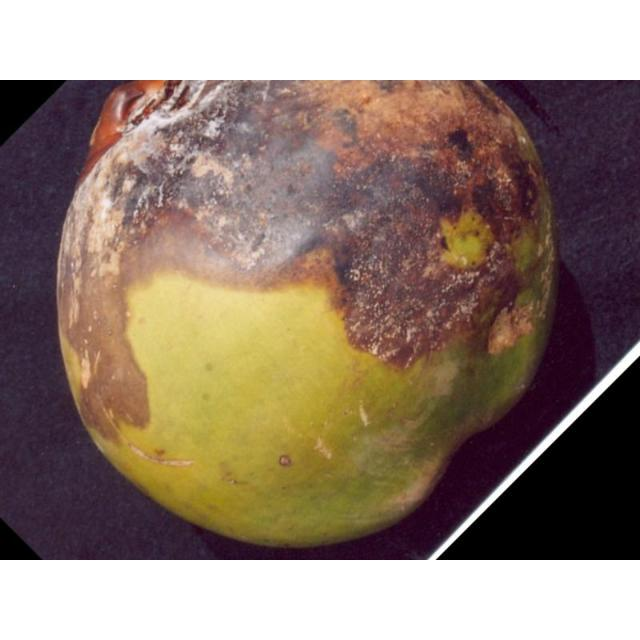damaged: (57, 80, 555, 546)
